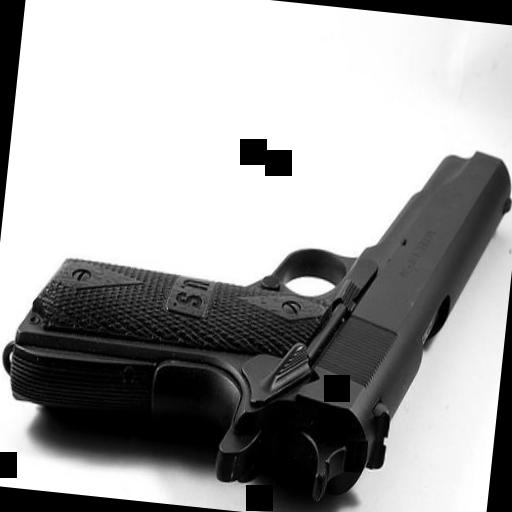Handgun: (0, 101, 512, 512)
